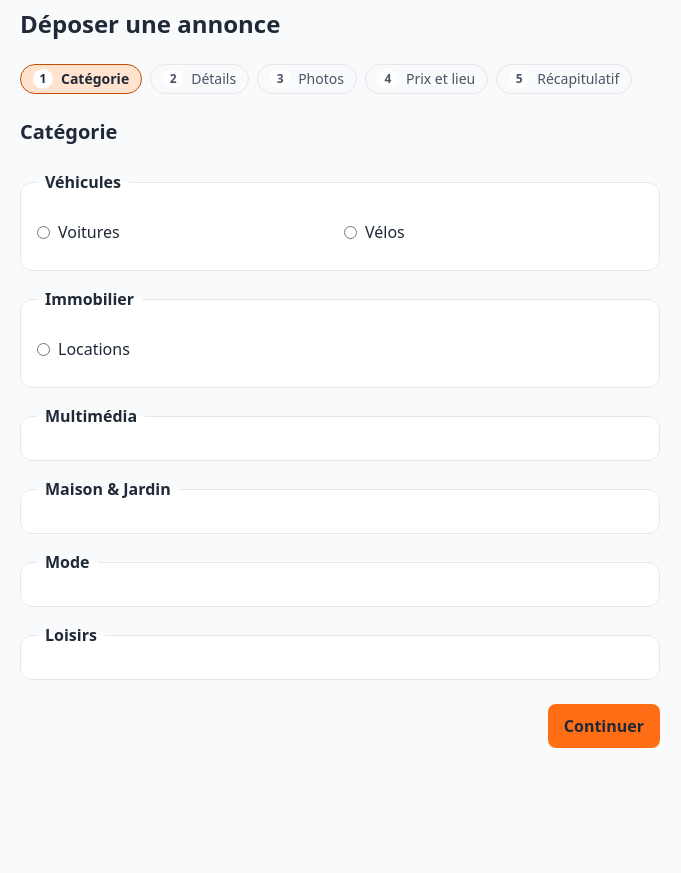
Test case: déposer une annonce : validation étape par étape › refuse des détails incomplets, champs de la catégorie compris
The width and height of the screenshot is (681, 873).
Click the radio button labelled "Voitures" at (44, 232), box [37,226,50,238]
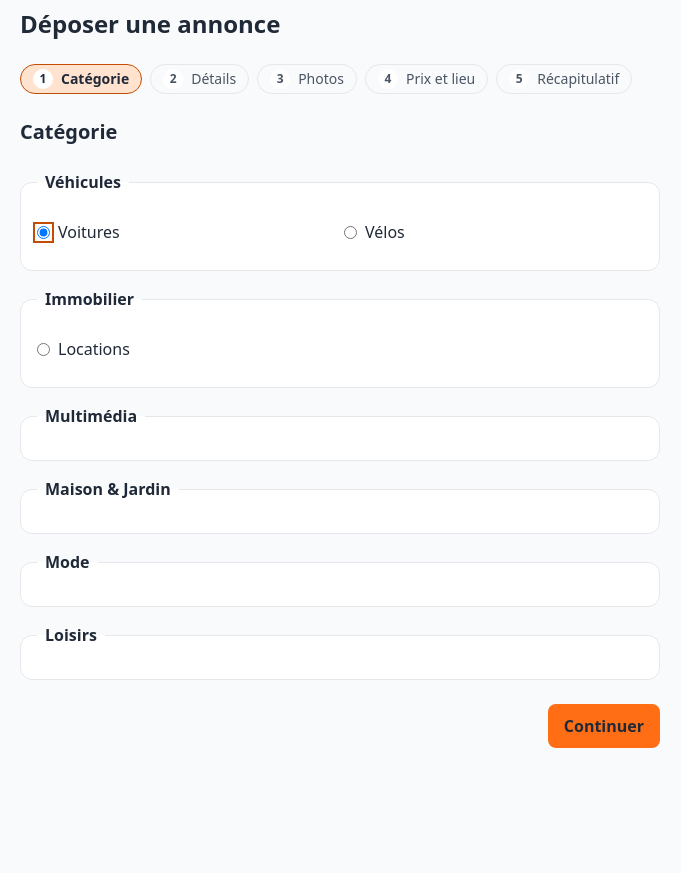
Click the button "Continuer" at (604, 726), box [548,704,660,748]
(page scrolled)
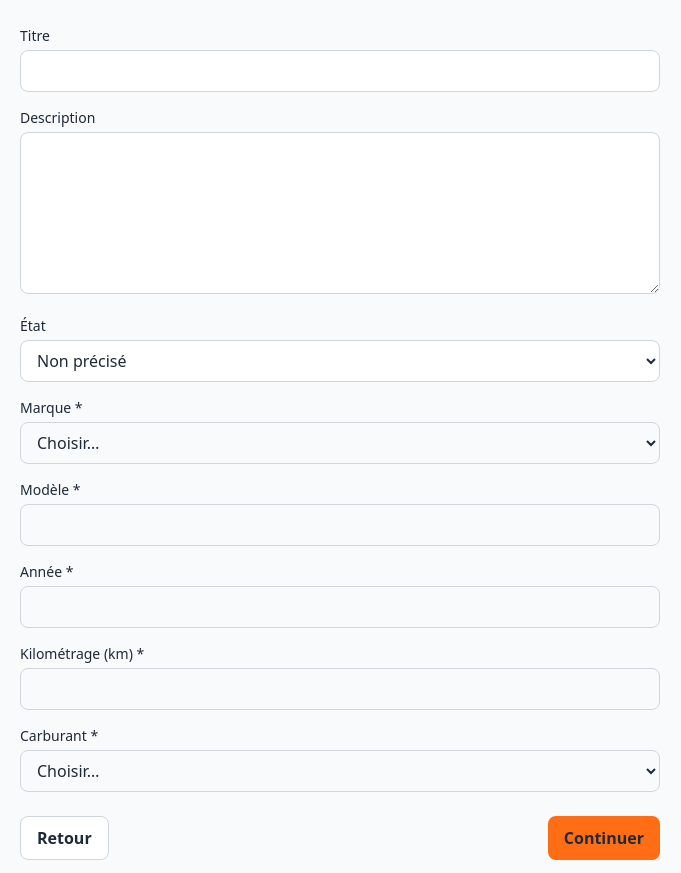
Expected: the dropdown labelled "Marque *" is shown, [20,422,660,464]
Click the button "Continuer" at (604, 838), box [548,816,660,860]
(page scrolled)
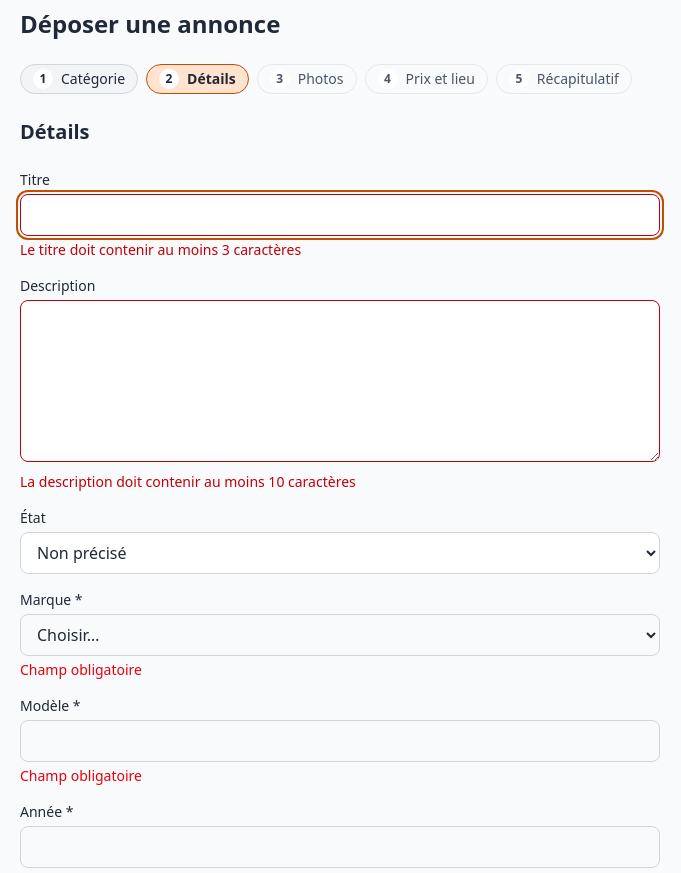
Expected: the heading "Détails" is shown, [20,118,90,145]
Expected: the text "Le titre doit contenir au moins 3 caractères" is shown, [20,240,301,259]
Expected: the text "La description doit contenir au moins 10 caractères" is shown, [20,472,356,491]
